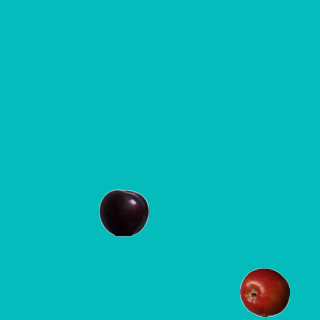Apple Braeburn: (239, 267, 289, 317)
Cherry Wax Black: (98, 187, 148, 237)
